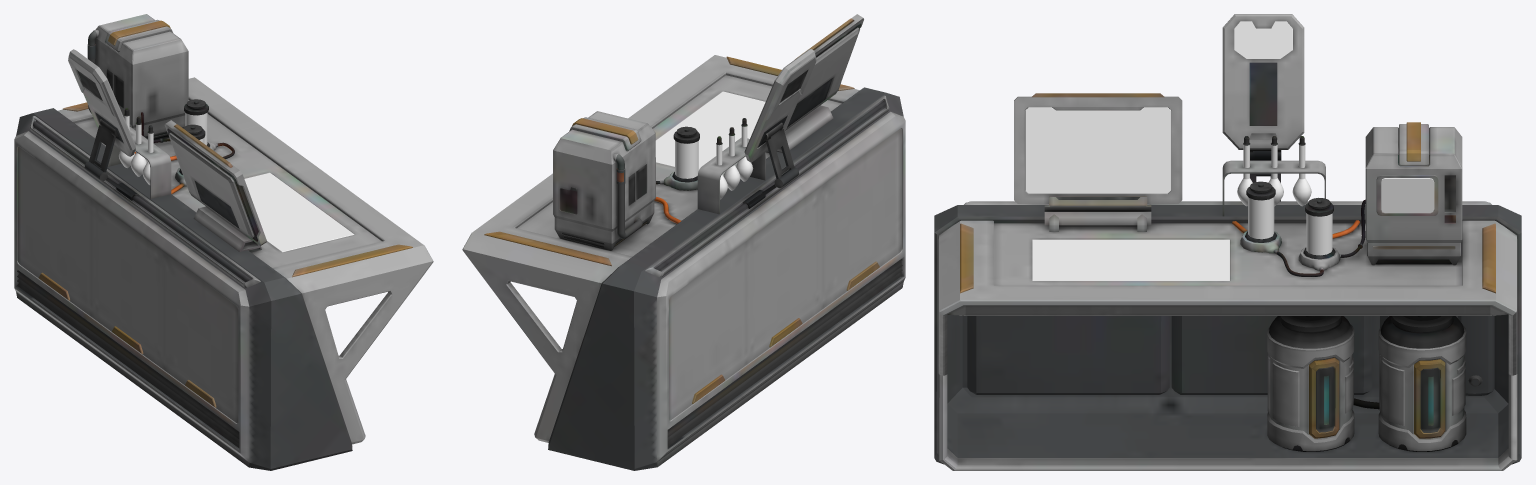
File: SM_MedicineFacilityFuture_6526b7.glb
3 renders of one model, left to right at view 1: azimuth 30°, elevation 25°; view 2: azimuth 150°, elevation 25°; view 3: azimuth 270°, elevation 25°, orthographic. The views are drawn at different scales.
Size of the model in its own units: 1.26 by 1.82 by 2.57.
Materials: 2 (1 with a texture image).
